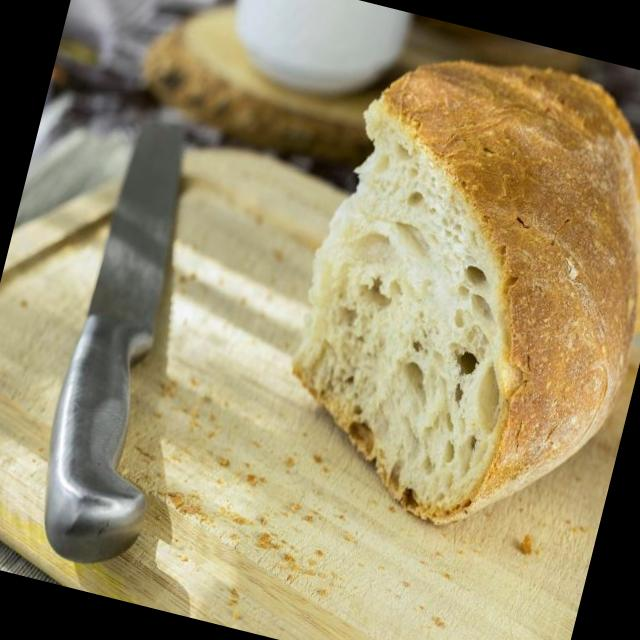Knife: (45, 124, 183, 561)
